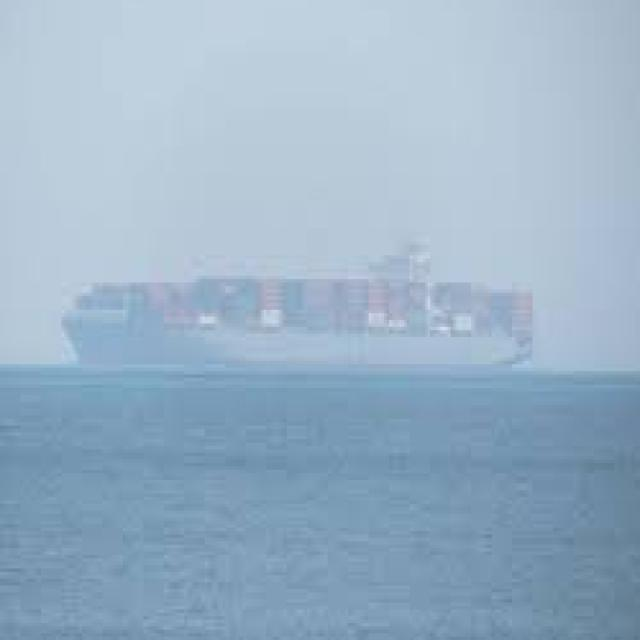cargoship: (59, 235, 534, 366)
